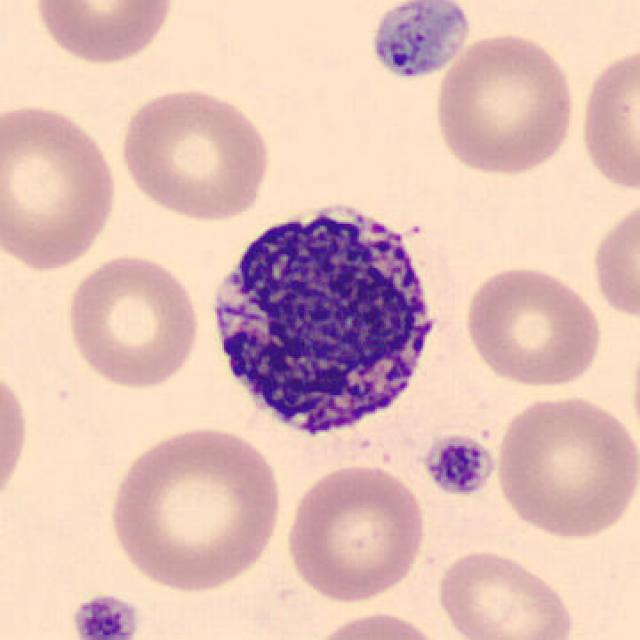Basophil: (196, 185, 454, 459)
Platelets: (364, 0, 473, 85), (420, 430, 498, 499), (66, 592, 142, 640)
RBC: (105, 422, 286, 594), (116, 83, 276, 224), (430, 28, 580, 178), (491, 390, 638, 541), (281, 458, 430, 605), (0, 99, 123, 275), (62, 250, 204, 392), (461, 261, 606, 390), (432, 545, 580, 640), (29, 0, 180, 67), (576, 41, 638, 196), (588, 194, 638, 324), (0, 359, 32, 516), (302, 608, 452, 640), (627, 320, 640, 460)
